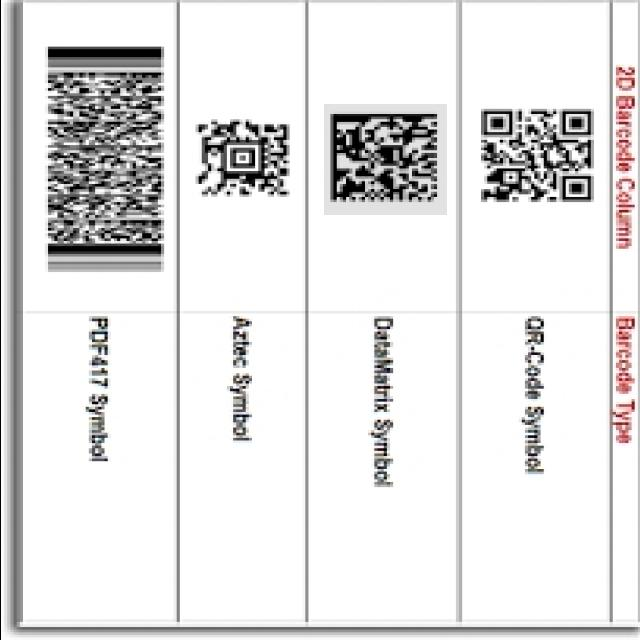DataMatrix: (323, 104, 446, 215)
